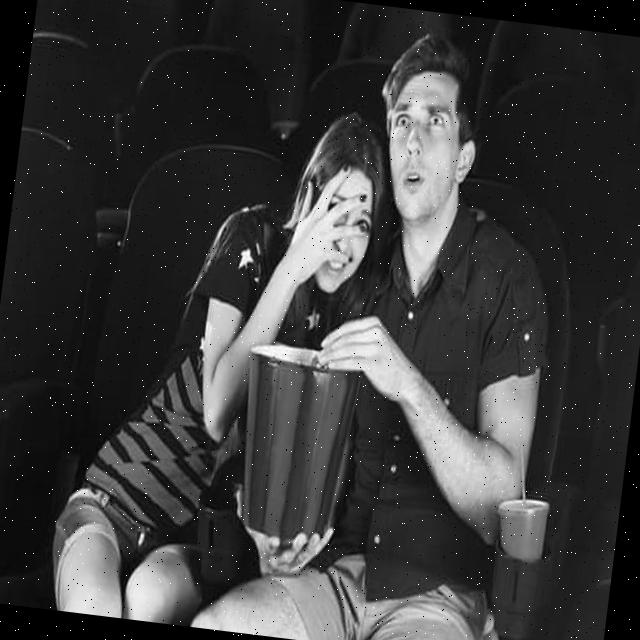Fear: (378, 62, 466, 225)
